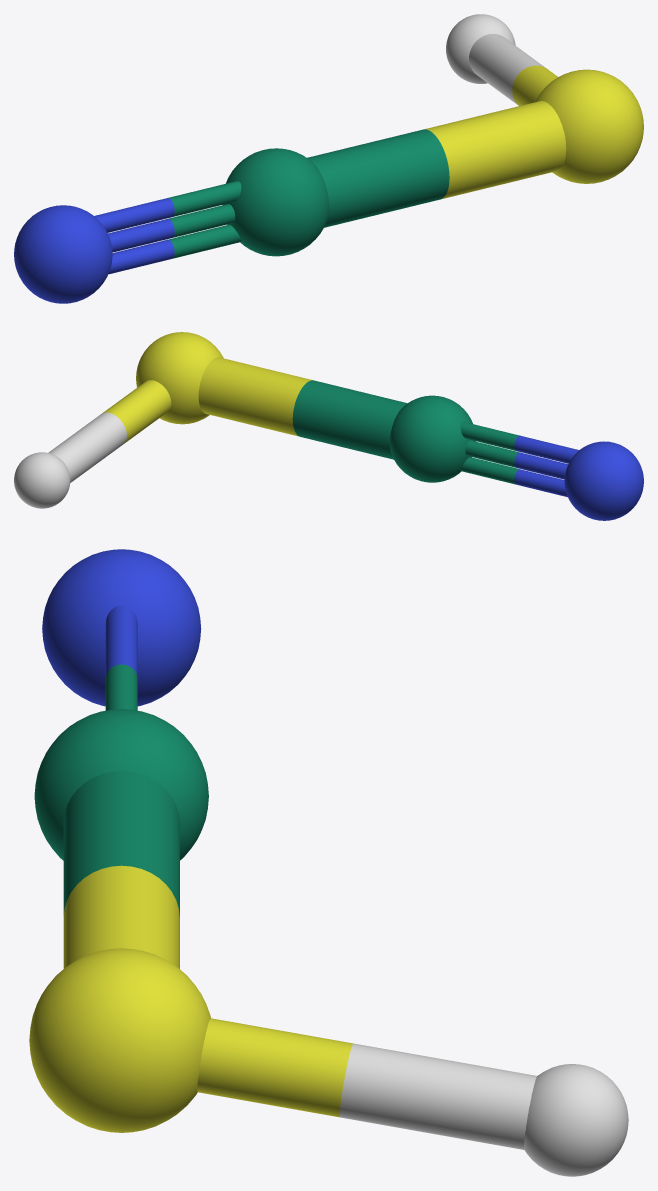
3 views of the same model, one above another, from view 1: azimuth 30°, elevation 25°; view 2: azimuth 150°, elevation 25°; view 3: azimuth 270°, elevation 25° (orthographic). The views are drawn at different scales.
Size of the model in its own units: 3.43 by 0.606 by 1.75.
